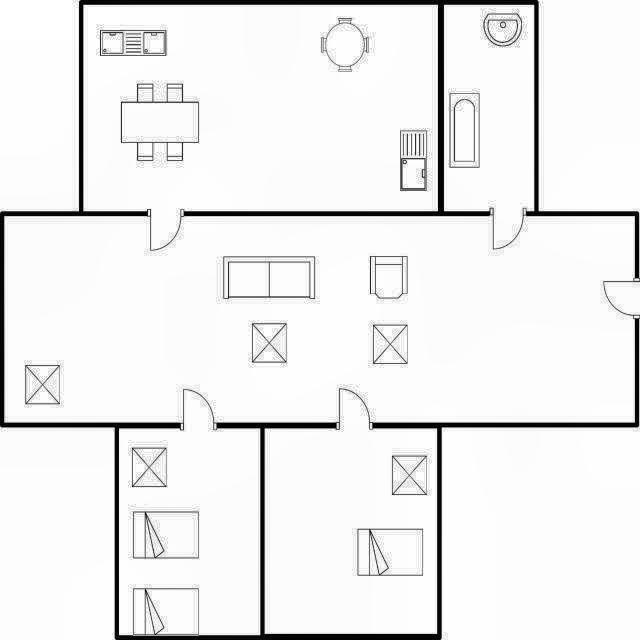room: (4, 216, 634, 422), (83, 5, 438, 210), (265, 429, 436, 633), (119, 428, 260, 635), (444, 5, 534, 211)
